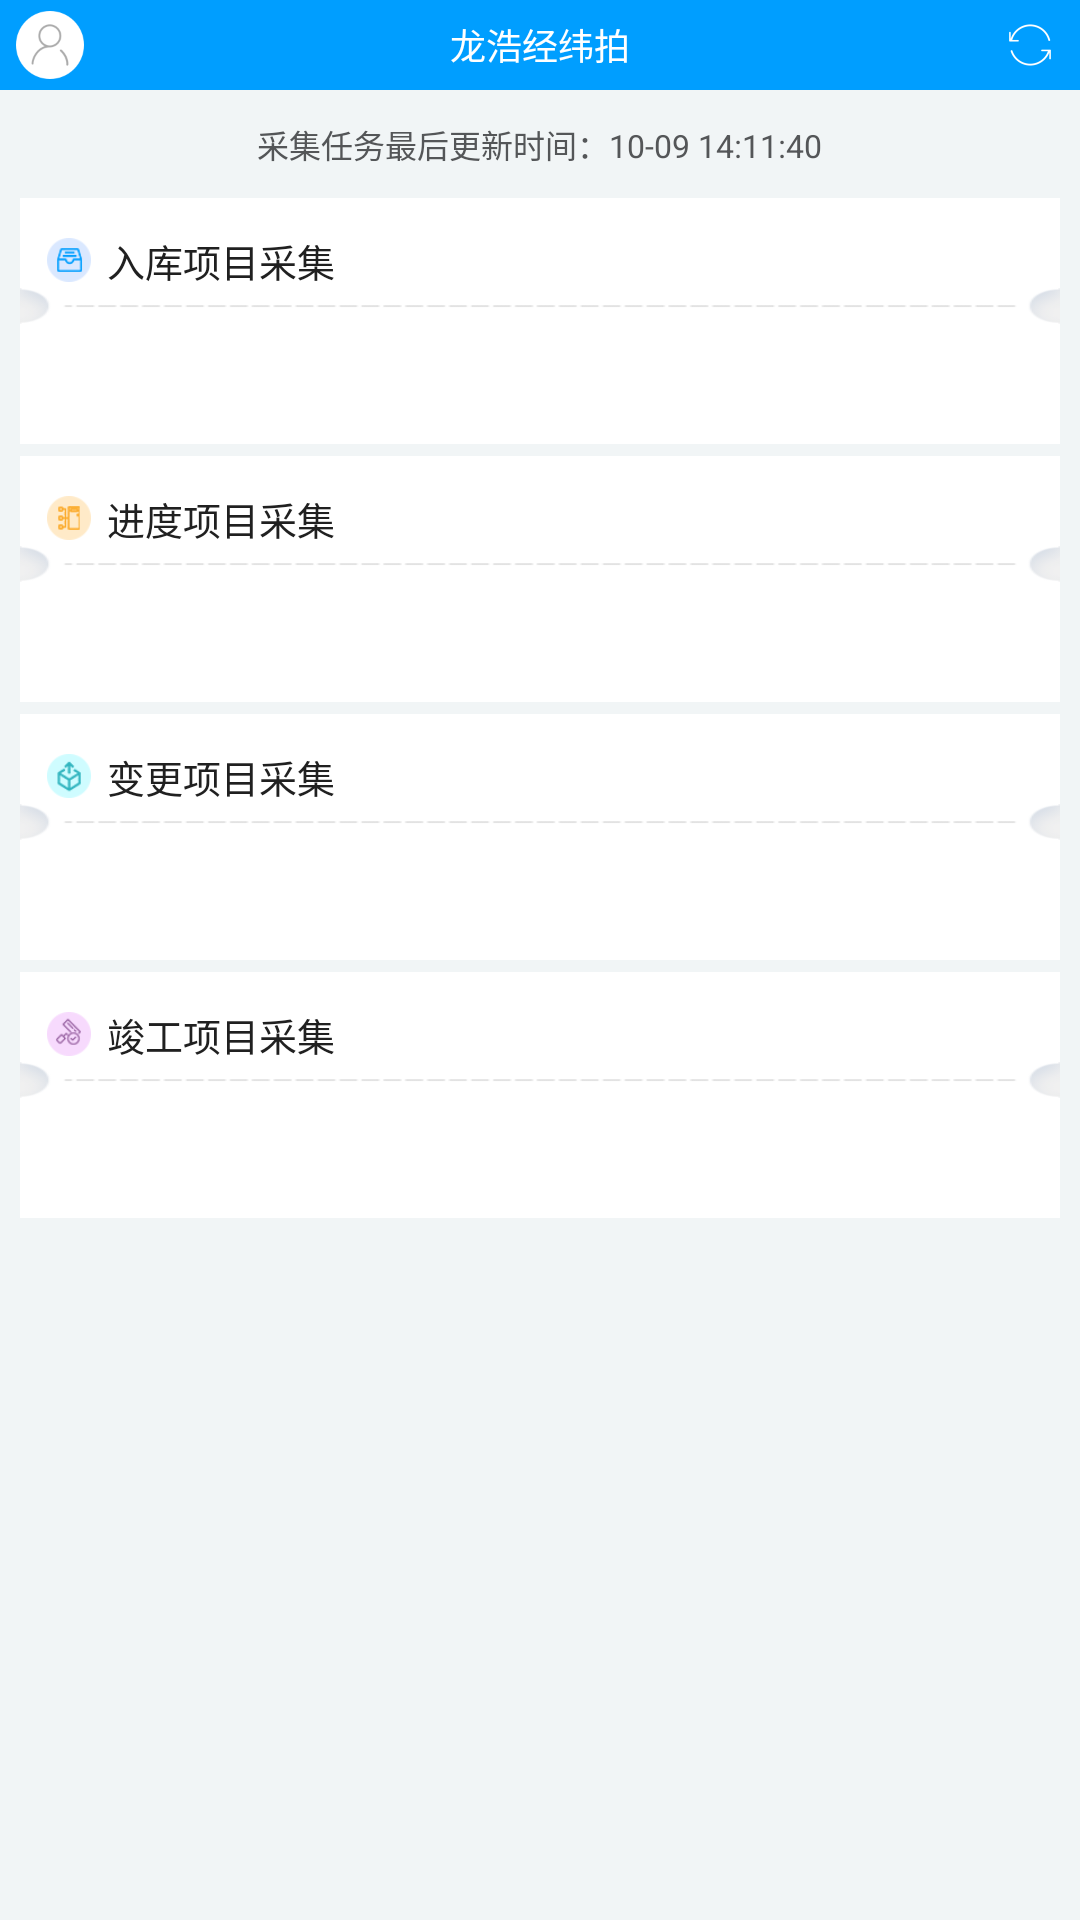

Named icons in this screenshot (1080px×1920px) and their bounding boxes, (x1, y1, x2, y2):
person: (16, 11, 84, 79)
refresh: (1009, 24, 1051, 66)
